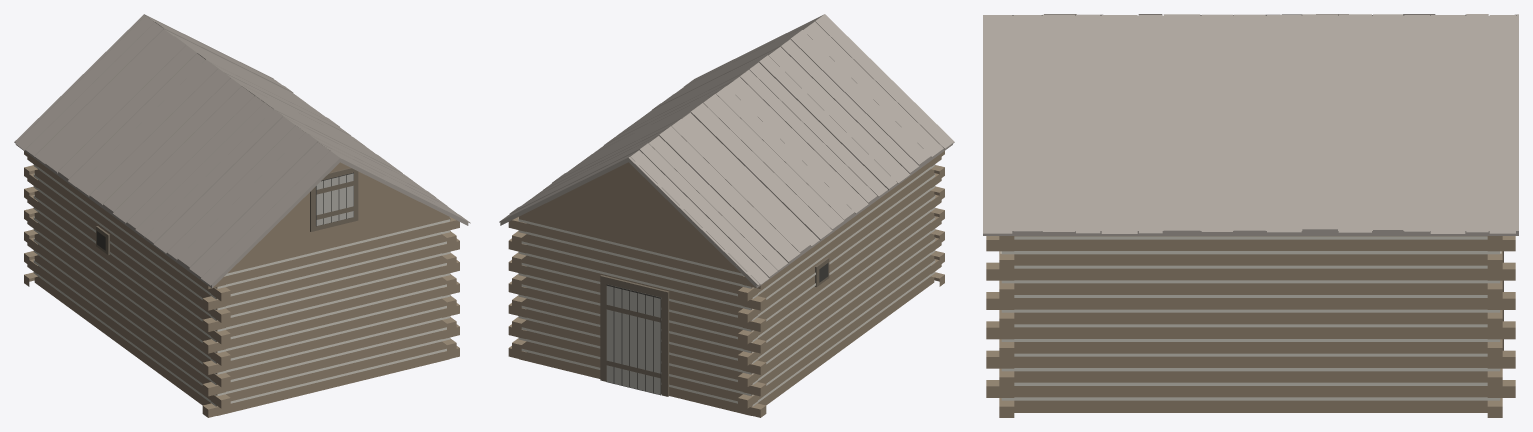
The model's file is recon_1835_blk_south_water_wells_a1_07__inferred_1835.glb.
3 views of the same model, side by side, from view 1: azimuth 30°, elevation 25°; view 2: azimuth 150°, elevation 25°; view 3: azimuth 270°, elevation 25° (orthographic). The views are drawn at different scales.
Visible parts, largest first — view 1: recon_1835_blk_south_water_wells_a1_07__inferred_1835; view 2: recon_1835_blk_south_water_wells_a1_07__inferred_1835; view 3: recon_1835_blk_south_water_wells_a1_07__inferred_1835.
Part boxes in pixels (<box>): recon_1835_blk_south_water_wells_a1_07__inferred_1835: <box>14,14,470,417</box>; recon_1835_blk_south_water_wells_a1_07__inferred_1835: <box>499,14,954,417</box>; recon_1835_blk_south_water_wells_a1_07__inferred_1835: <box>983,14,1518,417</box>.
Size of the model in its own units: 6.42 by 5.55 by 8.38.
